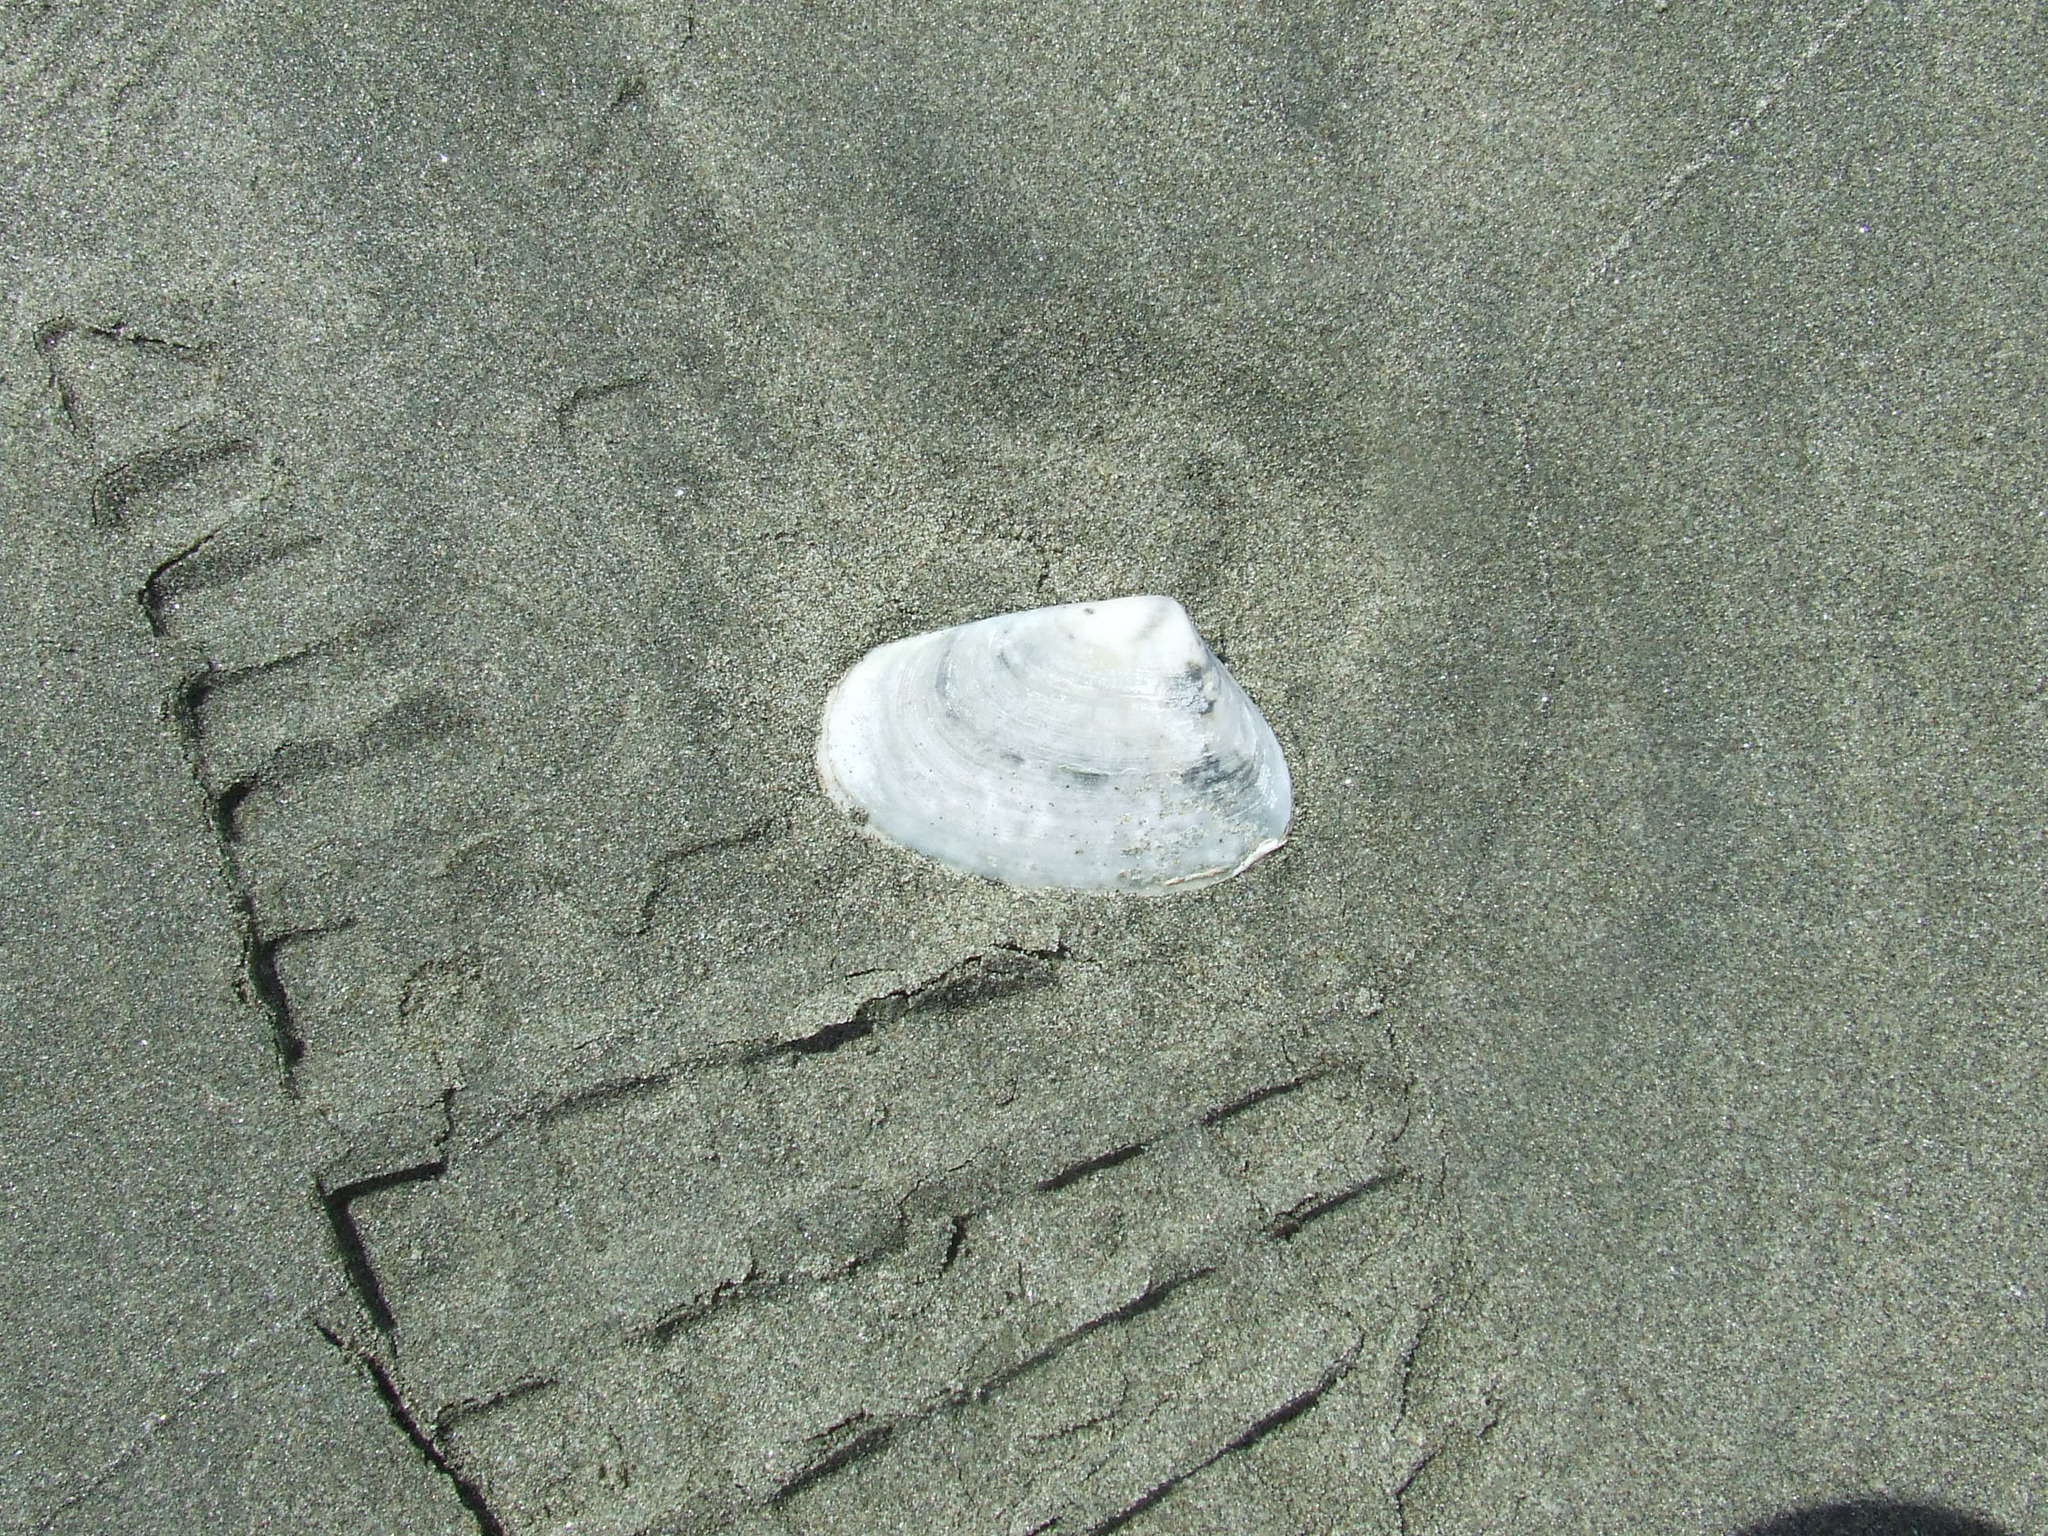tuatua: (798, 600, 1298, 889)
